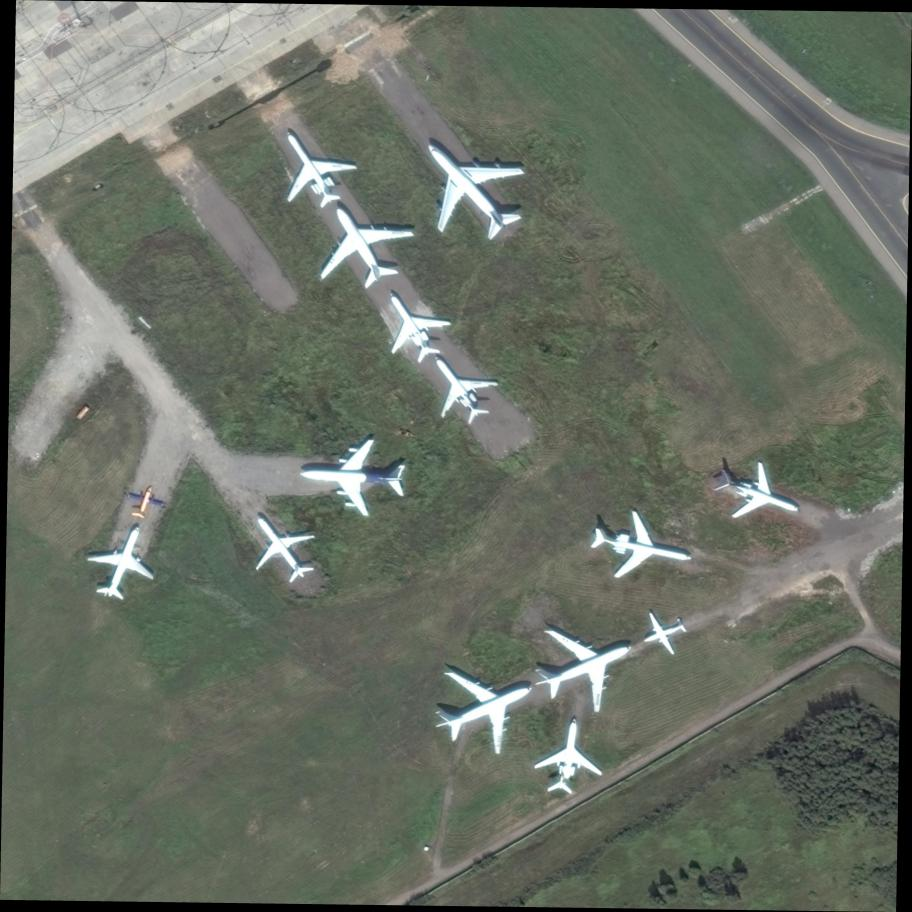plane: (387, 105, 553, 271), (410, 634, 558, 777), (513, 596, 660, 736), (293, 184, 431, 305), (254, 104, 370, 227), (695, 443, 816, 541), (582, 500, 704, 594), (360, 268, 465, 377), (410, 336, 513, 443), (233, 493, 334, 599), (294, 432, 413, 521), (76, 511, 171, 612), (529, 711, 615, 801), (631, 599, 696, 666), (119, 481, 172, 525)
